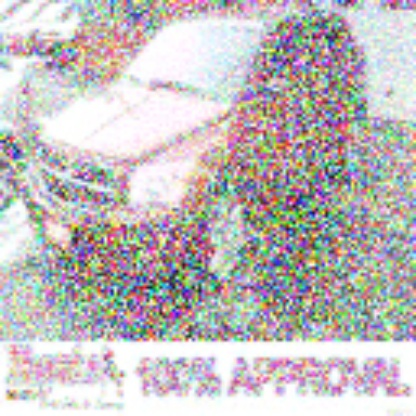Vehicle: (24, 15, 371, 305)
